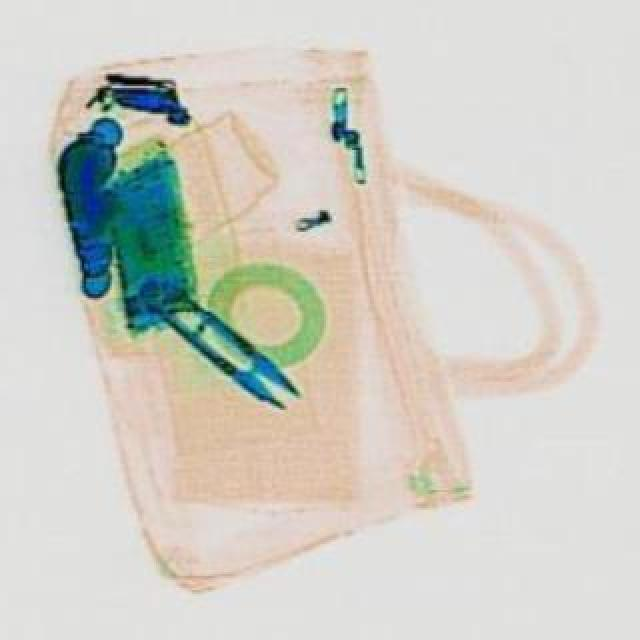pliers: (134, 262, 316, 416)
